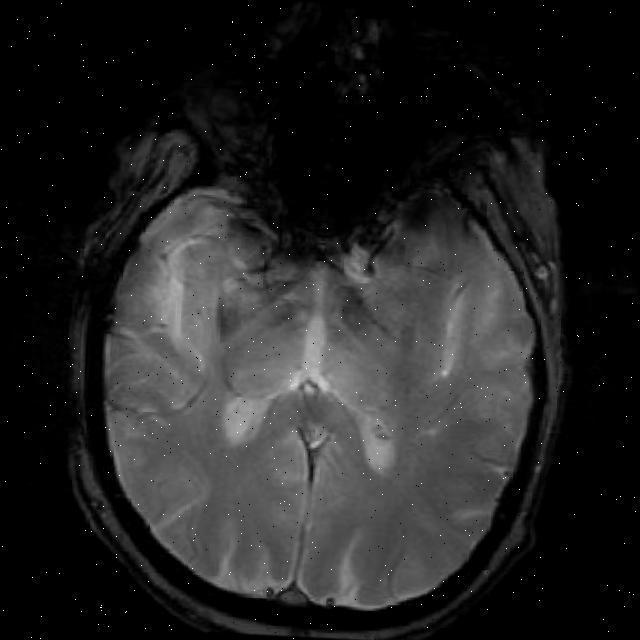LMCI: (208, 188, 289, 276)
MCI: (407, 180, 452, 268)
